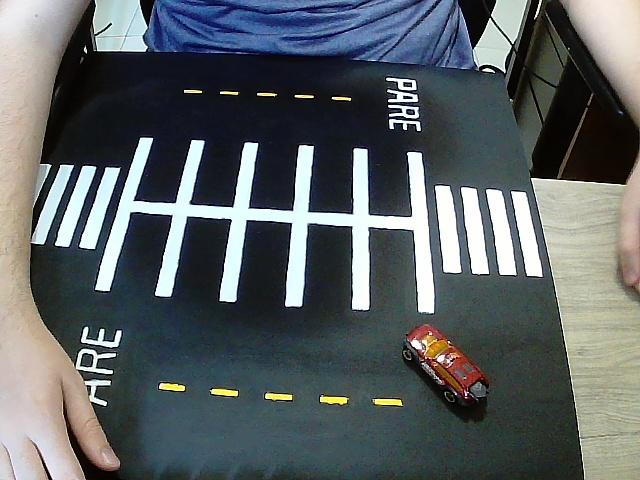Carro: (403, 324, 490, 409)
